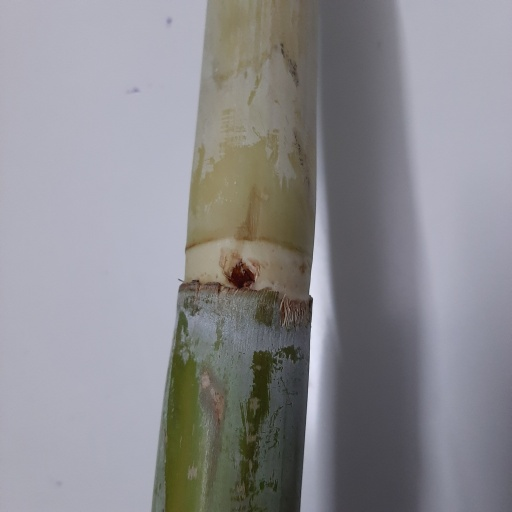Damage_Bud: (229, 257, 256, 290)
